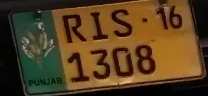RIS1308: (2, 2, 205, 91)
